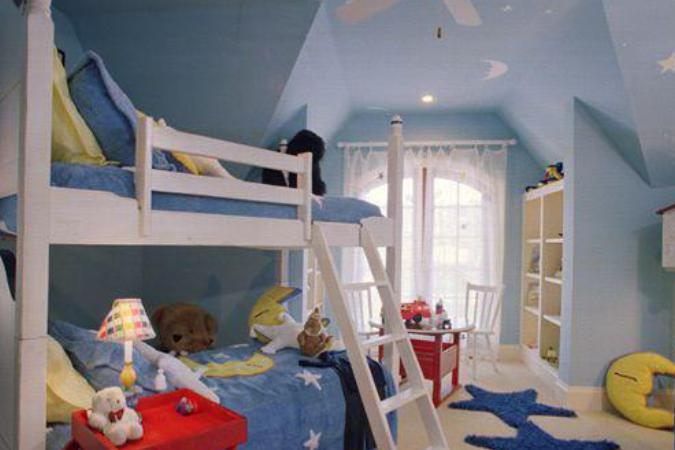Escaleras: (317, 217, 481, 450)
